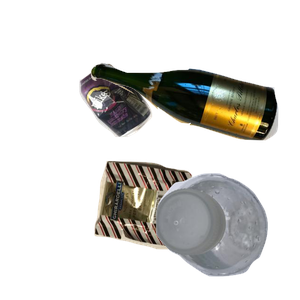glass: (88, 60, 300, 193)
metal: (77, 61, 222, 191)
plastic: (153, 170, 300, 300)
trash: (92, 158, 277, 300)
